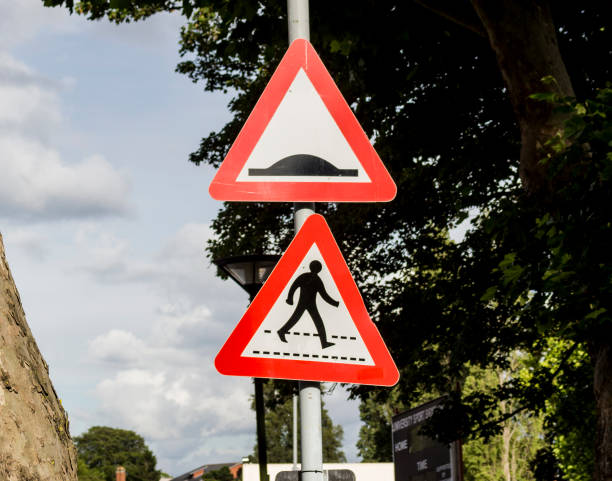pedestrian: (216, 214, 398, 388)
speed-breaker: (210, 39, 397, 202)
